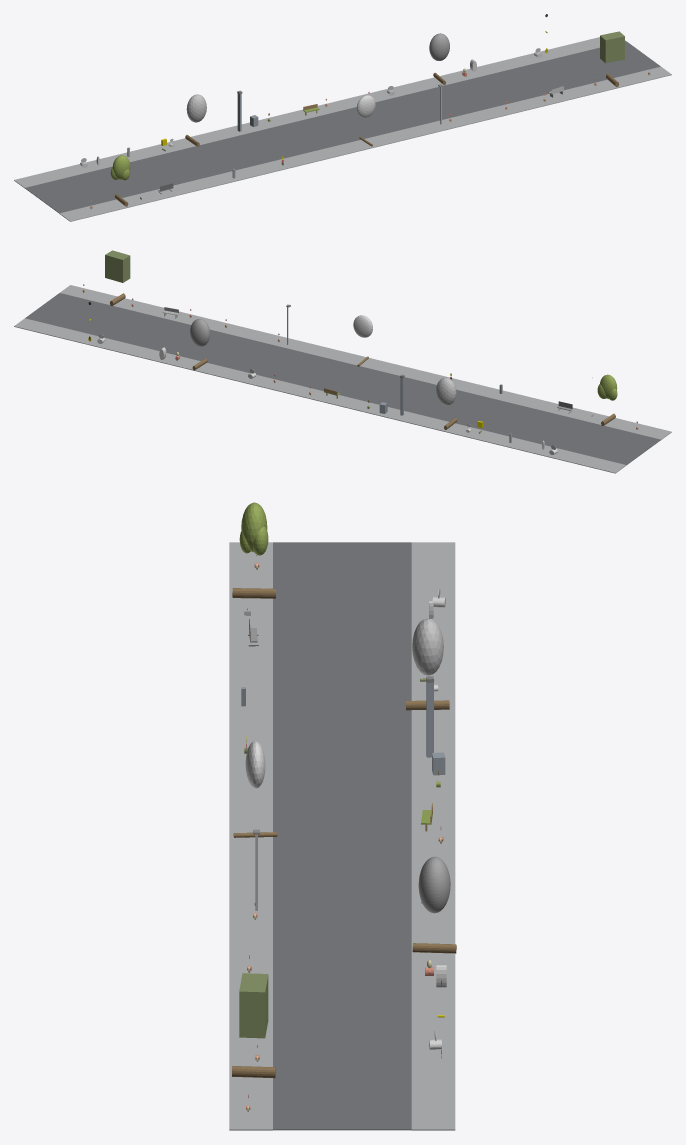
The picture shows the model from 3 angles, top to bottom: view 1: azimuth 30°, elevation 25°; view 2: azimuth 150°, elevation 25°; view 3: azimuth 270°, elevation 25°; orthographic projection. The views are drawn at different scales.
Parts seen in each view (by area): view 1: road_slab, sidewalk_left, sidewalk_right, inst_0016, inst_0013, inst_0015, inst_0012, inst_0014; view 2: road_slab, sidewalk_right, sidewalk_left, inst_0016, inst_0013, inst_0015, inst_0012, inst_0014; view 3: road_slab, sidewalk_left, sidewalk_right, inst_0016, inst_0015, inst_0013, inst_0012, inst_0014.
Boxes of the visible parts, x1,y1,x2,y2 form: road_slab: (25,41,660,213); sidewalk_left: (59,66,671,221); sidewalk_right: (14,37,625,188); inst_0016: (600,31,624,87); inst_0013: (185,94,206,146); inst_0015: (429,33,449,85); inst_0012: (110,155,130,206); inst_0014: (356,95,375,146); road_slab: (25,293,660,465); sidewalk_right: (14,318,626,473); sidewalk_left: (60,285,671,439); inst_0016: (105,250,130,305); inst_0013: (436,377,457,429); inst_0015: (190,319,209,370); inst_0012: (597,374,617,425); inst_0014: (353,315,372,366); road_slab: (273,542,411,1130); sidewalk_left: (229,542,272,1130); sidewalk_right: (411,542,455,1130); inst_0016: (232,973,275,1078); inst_0015: (412,856,456,953); inst_0013: (406,618,449,710); inst_0012: (232,502,275,598); inst_0014: (233,741,277,837).
Size of the model in its own units: 80 by 6.08 by 13.08.
